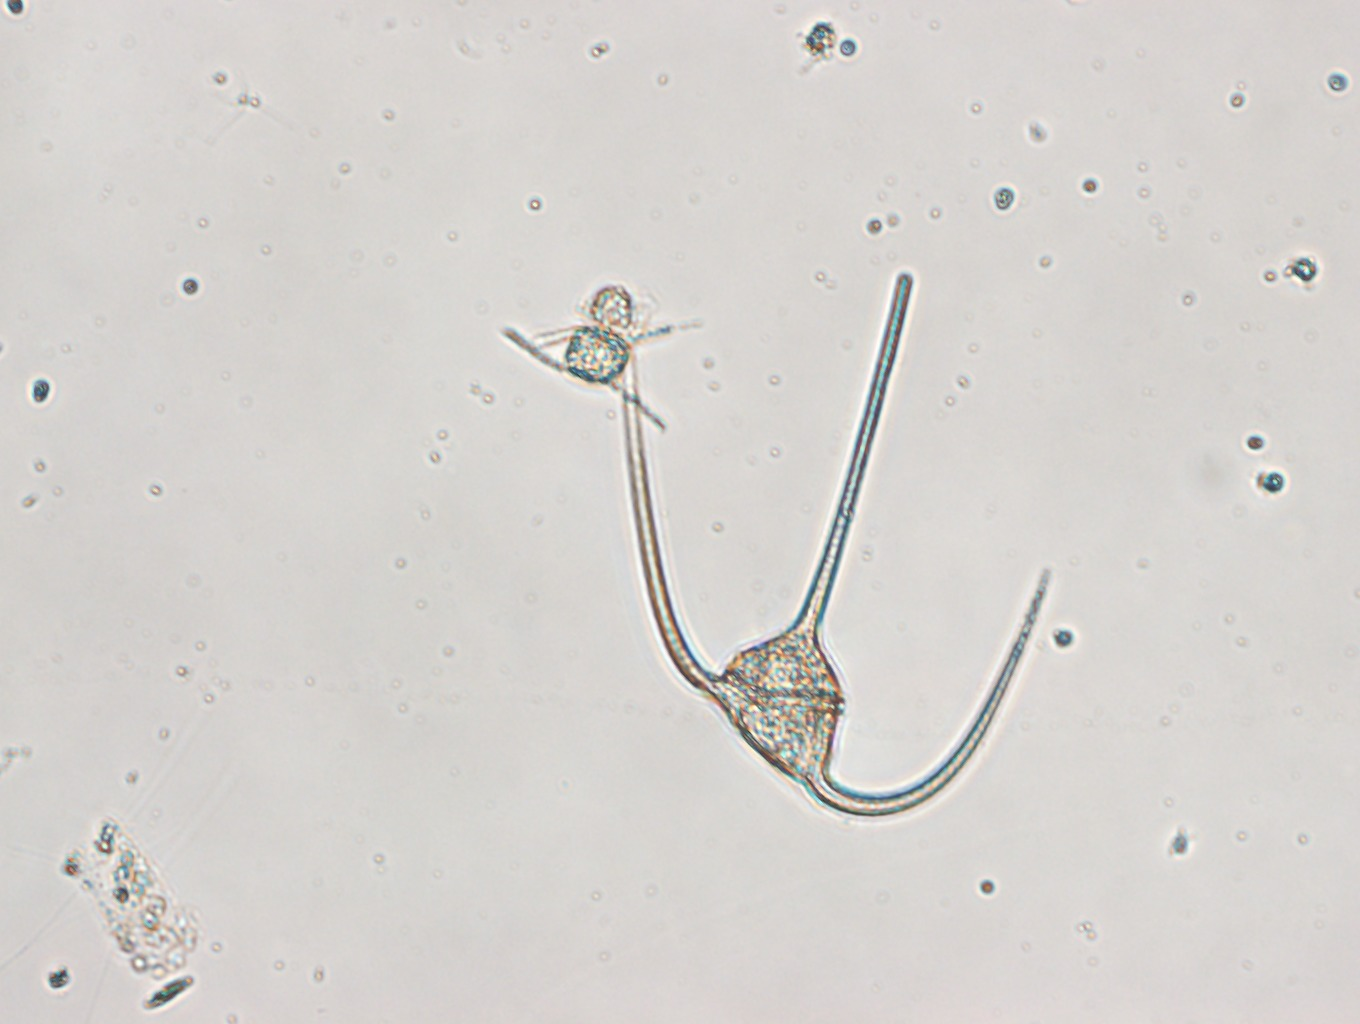ceratium trichoceros: (622, 268, 1055, 817)
chaetoceros: (500, 283, 708, 433)
